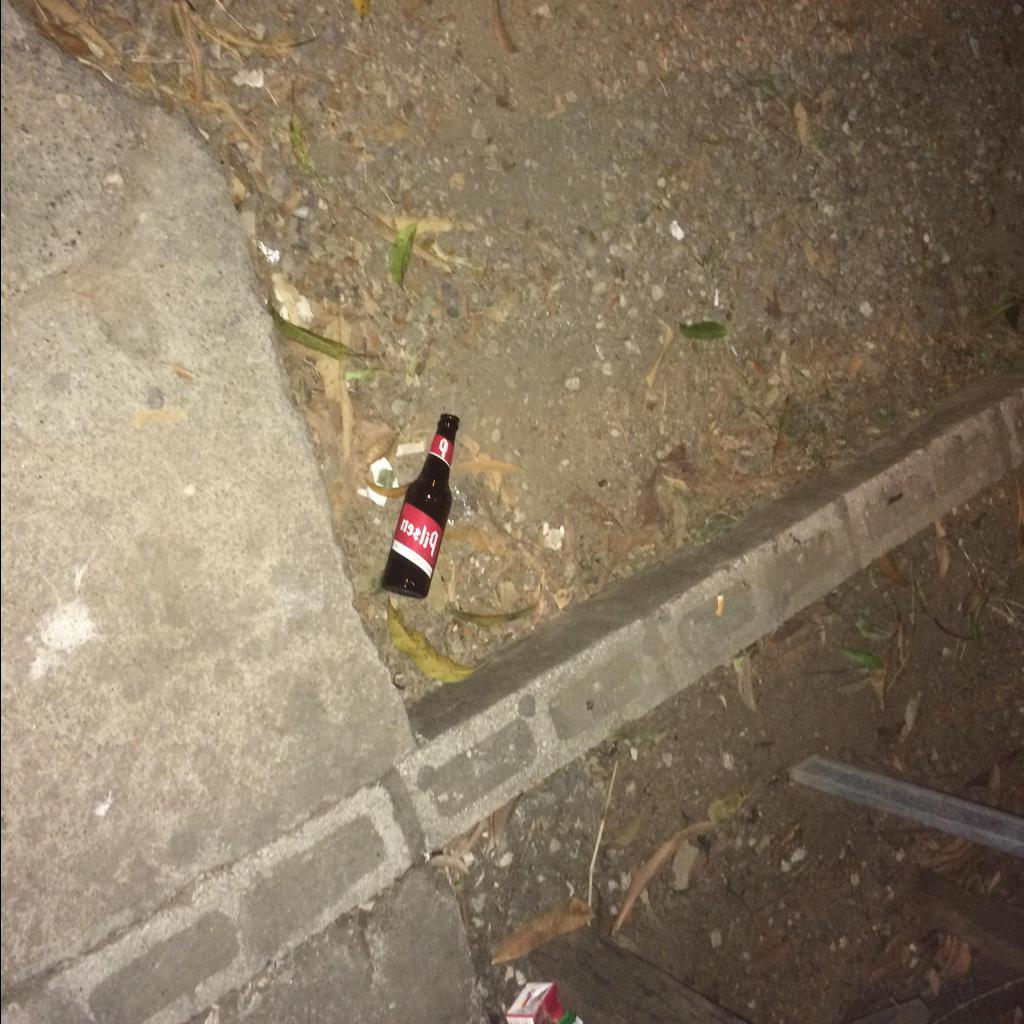Cigarette: (714, 594, 724, 618)
Drink carton: (504, 982, 562, 1024)
Glass bottle: (381, 414, 459, 599)
